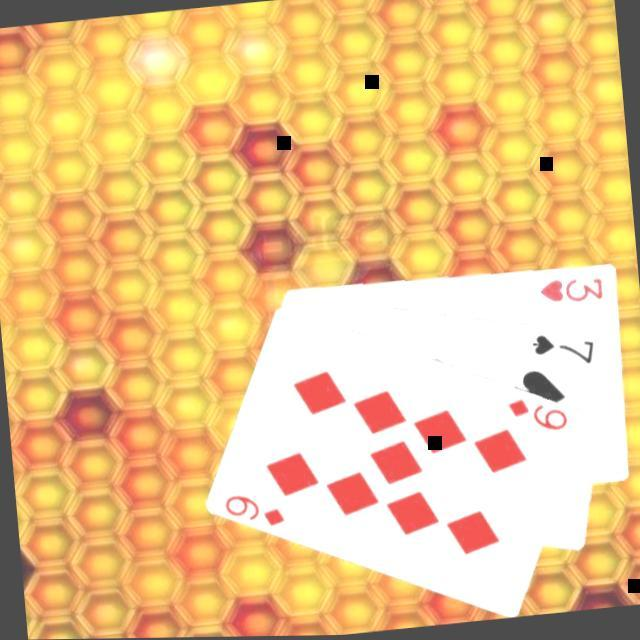3H: (536, 272, 608, 312)
7S: (529, 327, 600, 375)
9D: (221, 487, 290, 536), (505, 392, 573, 441)
